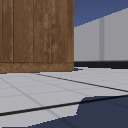obstacle: (1, 1, 75, 72)
